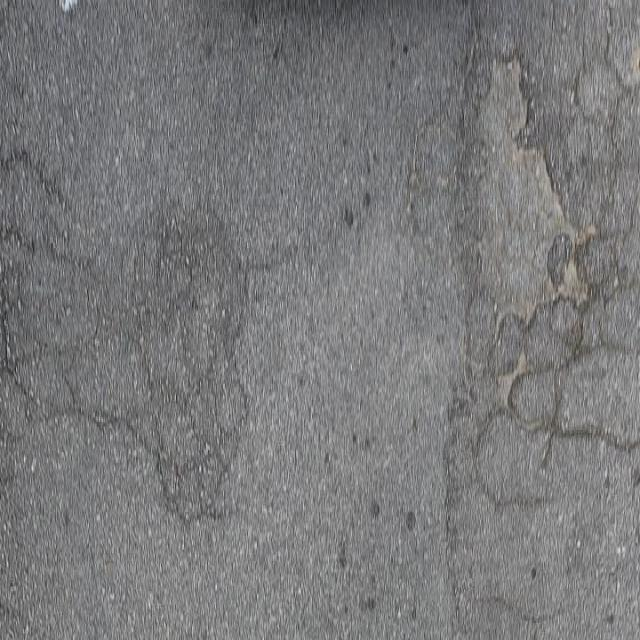cracks: (0, 0, 288, 591)
potholes: (446, 55, 612, 448)
